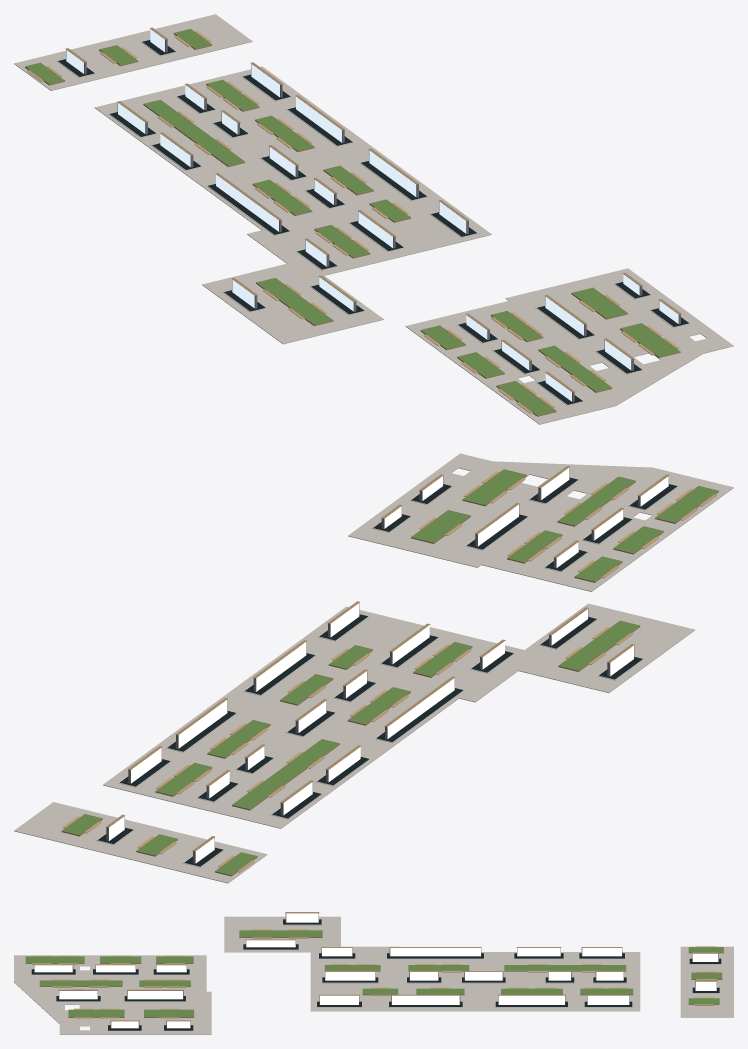
The model's file is wg_opt2.glb.
The picture shows the model from 3 angles, top to bottom: view 1: azimuth 30°, elevation 25°; view 2: azimuth 150°, elevation 25°; view 3: azimuth 270°, elevation 25°; orthographic projection. The views are drawn at different scales.
Parts seen in each view (by area): view 1: PR_WG2_Pave, PR_WG2_Lawn, PR_WG2_Sheet, PR_WG2_Pool, PR_WG2_Bench, PR_WG2_Rim, PR_WG2_Cap, PR_WG2_Edge, PR_WG2_Wall; view 2: PR_WG2_Pave, PR_WG2_Lawn, PR_WG2_Sheet, PR_WG2_Pool, PR_WG2_Bench, PR_WG2_Rim, PR_WG2_Cap, PR_WG2_Edge, PR_WG2_Wall; view 3: PR_WG2_Pave, PR_WG2_Sheet, PR_WG2_Lawn, PR_WG2_Pool, PR_WG2_Rim, PR_WG2_Bench, PR_WG2_Cap, PR_WG2_Edge, PR_WG2_Wall, PR_WG2_Bbase.
Part boxes in pixels (left/top/right/bottom): PR_WG2_Pave: left=14, top=14, right=733, bottom=424; PR_WG2_Lawn: left=25, top=29, right=679, bottom=415; PR_WG2_Sheet: left=66, top=29, right=678, bottom=401; PR_WG2_Pool: left=58, top=40, right=688, bottom=404; PR_WG2_Bench: left=27, top=31, right=679, bottom=413; PR_WG2_Rim: left=56, top=39, right=690, bottom=405; PR_WG2_Cap: left=65, top=27, right=681, bottom=392; PR_WG2_Edge: left=25, top=29, right=680, bottom=416; PR_WG2_Wall: left=66, top=39, right=680, bottom=401; PR_WG2_Pave: left=14, top=453, right=733, bottom=883; PR_WG2_Lawn: left=62, top=469, right=717, bottom=874; PR_WG2_Sheet: left=109, top=468, right=668, bottom=863; PR_WG2_Pool: left=98, top=477, right=677, bottom=866; PR_WG2_Bench: left=62, top=471, right=717, bottom=872; PR_WG2_Rim: left=96, top=477, right=678, bottom=867; PR_WG2_Cap: left=106, top=466, right=669, bottom=851; PR_WG2_Edge: left=61, top=469, right=718, bottom=876; PR_WG2_Wall: left=106, top=467, right=668, bottom=863; PR_WG2_Pave: left=14, top=916, right=733, bottom=1034; PR_WG2_Sheet: left=34, top=913, right=718, bottom=1028; PR_WG2_Lawn: left=25, top=930, right=723, bottom=1016; PR_WG2_Pool: left=31, top=919, right=721, bottom=1030; PR_WG2_Rim: left=31, top=919, right=721, bottom=1030; PR_WG2_Bench: left=32, top=929, right=716, bottom=1018; PR_WG2_Cap: left=34, top=912, right=718, bottom=1021; PR_WG2_Edge: left=25, top=937, right=723, bottom=1017; PR_WG2_Wall: left=34, top=913, right=718, bottom=1028; PR_WG2_Bbase: left=33, top=938, right=713, bottom=1018.
Size of the model in its own units: 110 by 4.4 by 284.
